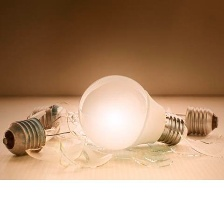light_bulb: (74, 71, 191, 153), (20, 77, 119, 140), (1, 100, 96, 157), (127, 89, 221, 139)
